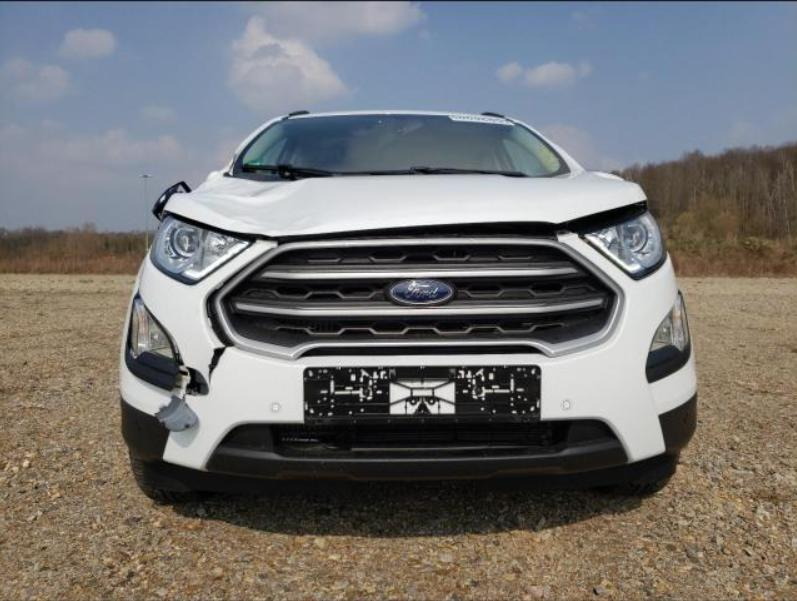Front-bumper: (121, 236, 698, 495)
Grille: (209, 237, 624, 360)
Headlight: (150, 216, 253, 281), (583, 210, 665, 279)
Hood: (167, 170, 647, 236)
License-plate: (301, 365, 542, 423)
Windshield: (233, 114, 564, 176)
